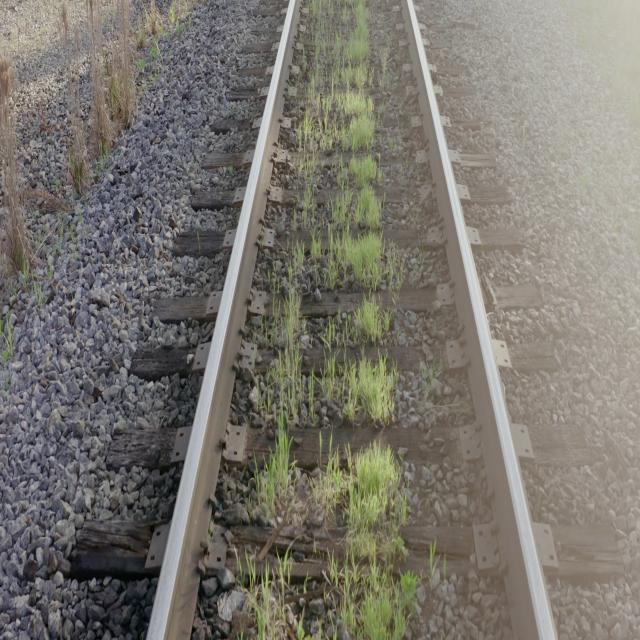Plant: (252, 0, 416, 638), (320, 356, 399, 427), (250, 551, 290, 638), (362, 589, 392, 640)
